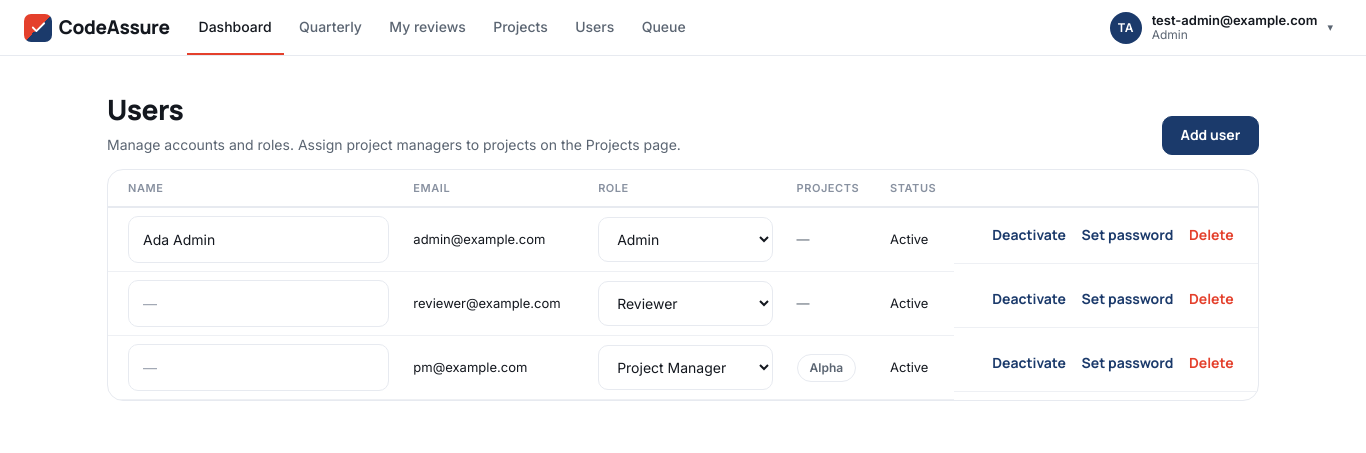
Test: shows an error message instead of failing silently when a role change is rejected
The image size is (1366, 453).
Expected: the text "reviewer@example.com" is shown, 401,272 -> 586,336
Select "Management" in the dropdown named "role for reviewer@example.com" at {"x": 685, "y": 304}, box 598,281 -> 772,326
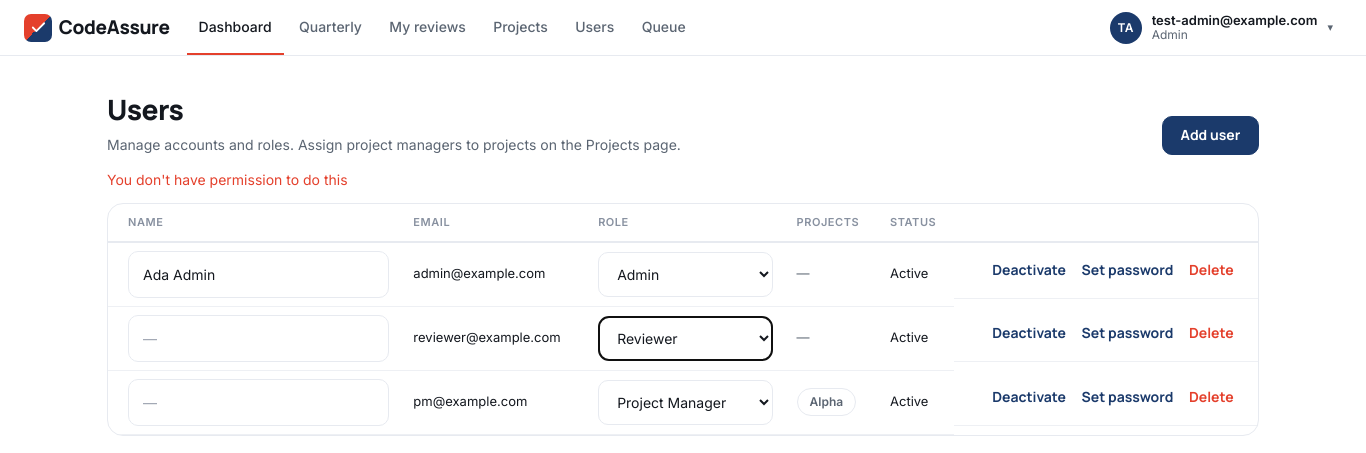
Result: the text "You don't have permission to do this" is shown at 107,171 -> 348,188
